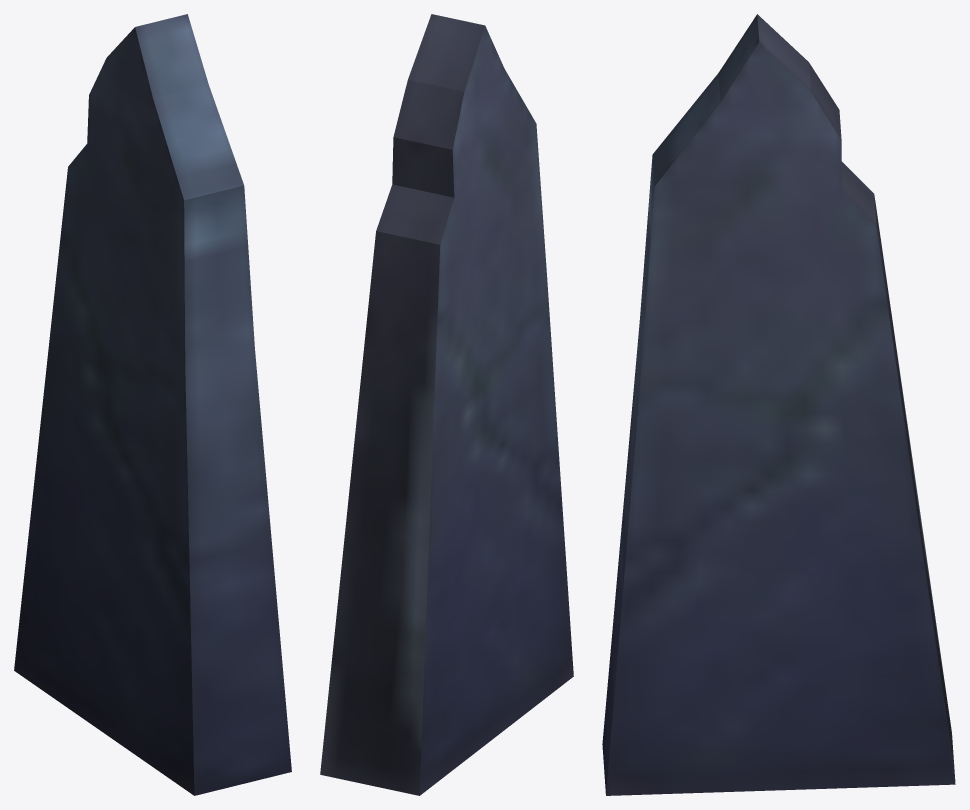
The model's file is Area14_28.fbx.
3 views of the same model, side by side, from view 1: azimuth 30°, elevation 25°; view 2: azimuth 150°, elevation 25°; view 3: azimuth 270°, elevation 25° (orthographic). The views are drawn at different scales.
Visible parts, largest first — view 1: Area14_28; view 2: Area14_28; view 3: Area14_28.
Part boxes in pixels (left/top/right/bottom): Area14_28: left=14, top=14, right=291, bottom=795; Area14_28: left=320, top=14, right=573, bottom=795; Area14_28: left=602, top=14, right=955, bottom=795.
Bounding box in the file's own units: 128 × 784 × 339.
